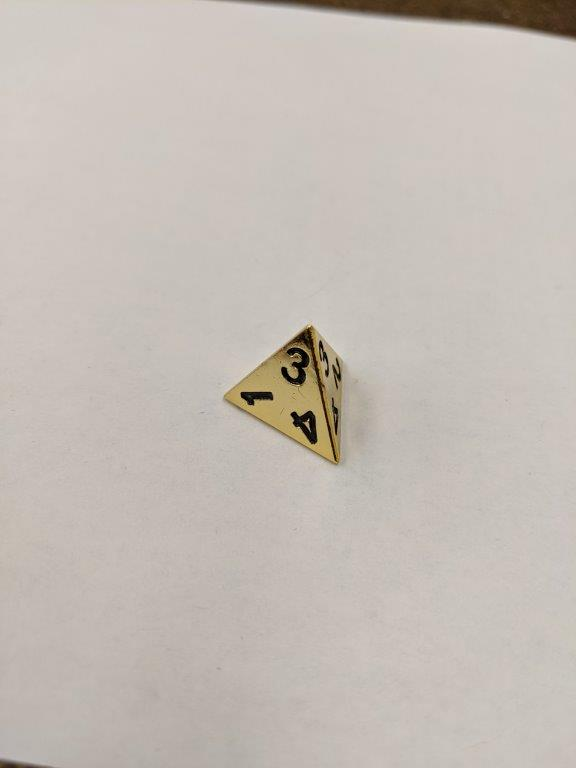d4-3: (216, 320, 350, 471)
